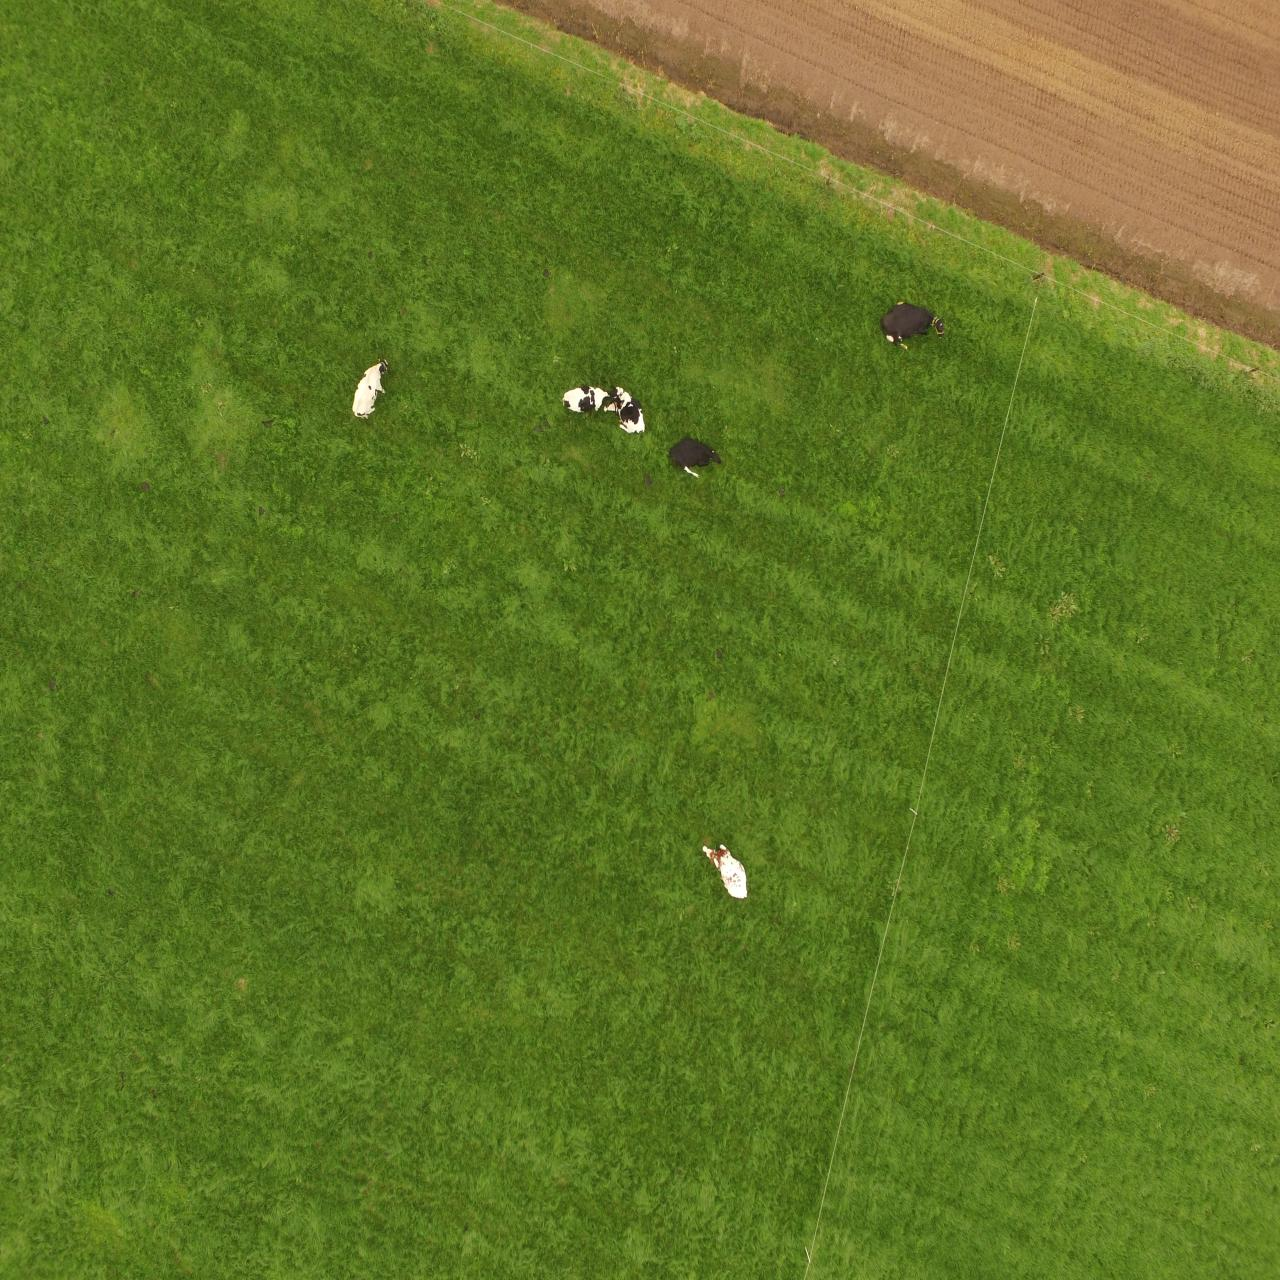cow: (876, 297, 945, 355), (348, 352, 394, 425), (699, 838, 749, 903), (668, 437, 722, 485), (560, 377, 614, 422), (608, 379, 651, 435)
